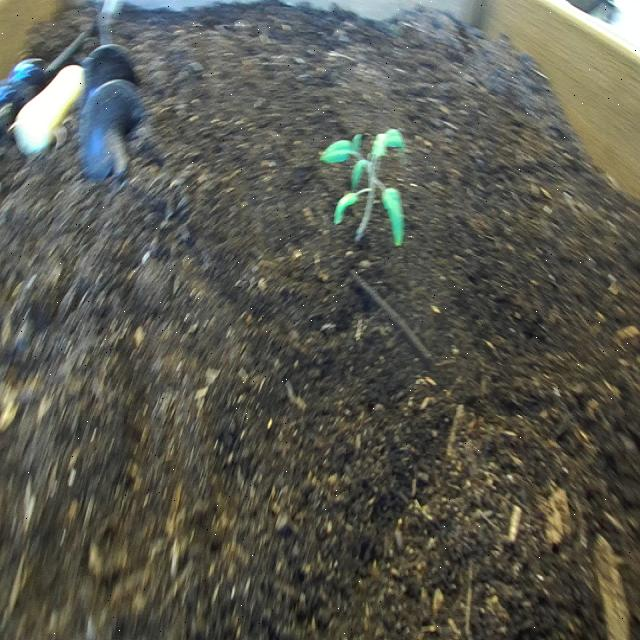Healthy: (314, 121, 416, 261)
